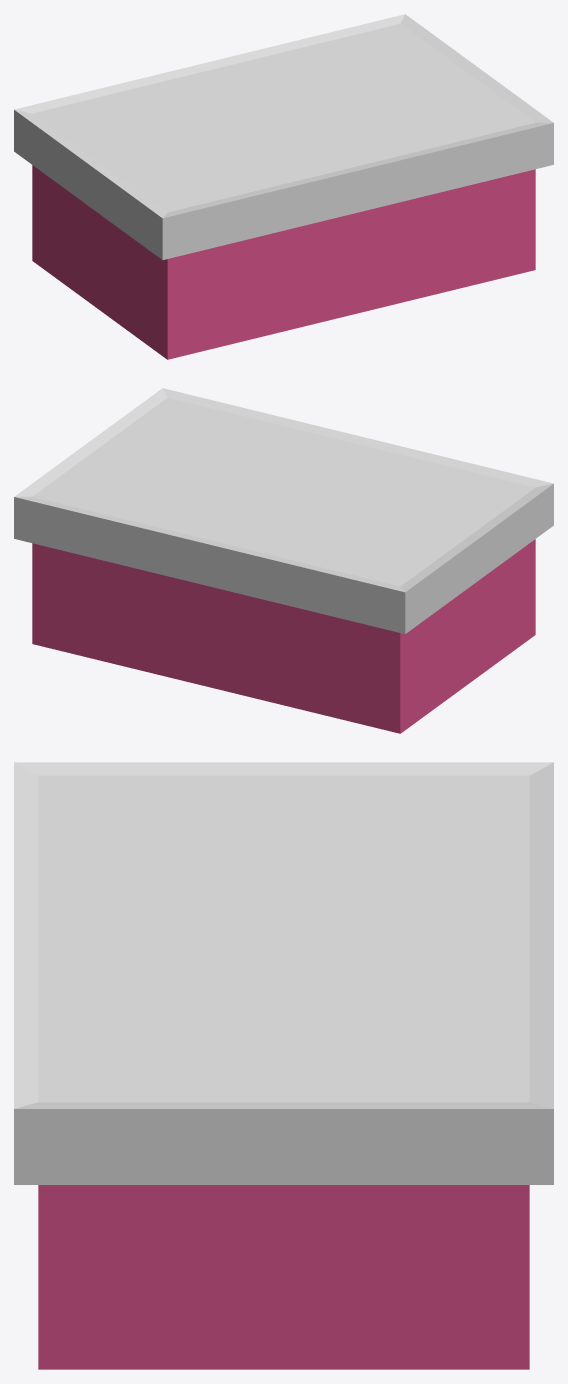
The picture shows the model from 3 angles, top to bottom: view 1: azimuth 30°, elevation 25°; view 2: azimuth 150°, elevation 25°; view 3: azimuth 270°, elevation 25°; orthographic projection. The views are drawn at different scales.
Parts seen in each view (by area): view 1: Box_3; view 2: Box_3; view 3: Box_3.
Part boxes in pixels (x1,y1,x2,y2): Box_3: (14,14,553,359); Box_3: (14,388,553,733); Box_3: (14,762,553,1369).
Size of the model in its own units: 81.38 by 29.64 by 53.54.
